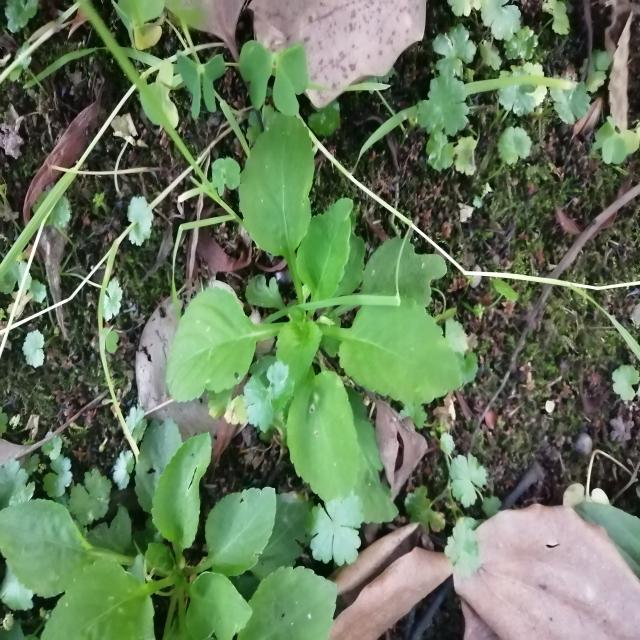Viola: (164, 134, 490, 498)
